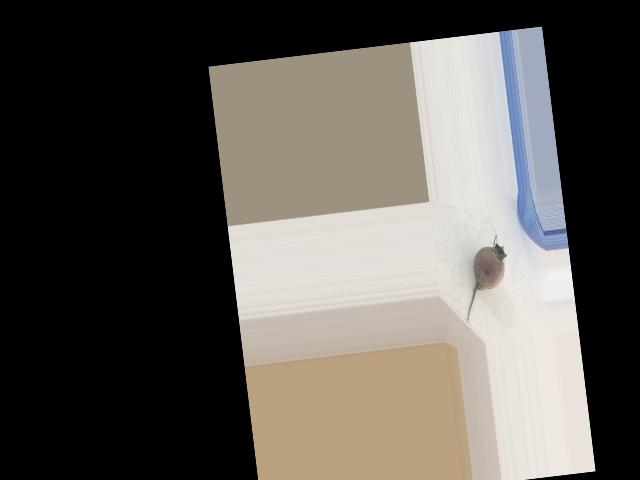beet: (456, 234, 513, 323)
